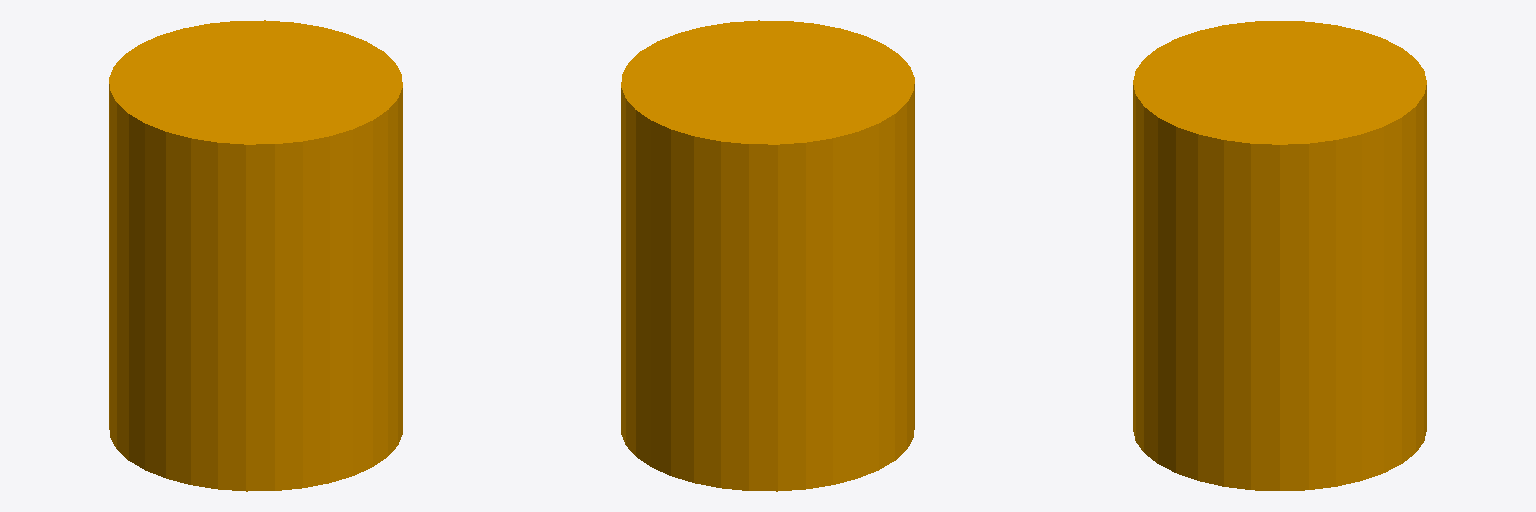
The robot description file, URDF, robot "cylinder.urdf":
<?xml version="1.0" ?>
<robot name="cylinder.urdf">
  <link name="cylinder">
    <contact>
      <lateral_friction value="1.0"/>
      <rolling_friction value="1.0"/>
      <contact_cfm value="0.7"/>
      <contact_erp value="1.0"/>
    </contact>
    <inertial>
      <origin rpy="0 0 0" xyz="0.0 0.02 0.0"/>
       <mass value="0.3"/>
       <inertia ixx="1" ixy="0" ixz="0" iyy="1" iyz="0" izz="1"/>
    </inertial>
    <visual>
      <origin rpy="0 0 0" xyz="0 0 0"/>
      <geometry>
        <cylinder length="0.13" radius="0.05"/>
      </geometry>
    </visual>
    <collision>
      <origin rpy="0 0 0" xyz="0 0 0"/>
      <geometry>
        <cylinder length="0.13" radius="0.02"/>
      </geometry>
    </collision>
  </link>

  <link name="cube">
    <contact>
      <lateral_friction value="1.0"/>
      <rolling_friction value="0.0"/>
      <contact_cfm value="0.0"/>
      <contact_erp value="1.0"/>
    </contact>
    <inertial>
      <origin rpy="0 0 0" xyz="0.0 0.0 0.0"/>
       <mass value="0.1"/>
       <inertia ixx="1" ixy="0" ixz="0" iyy="1" iyz="0" izz="1"/>
    </inertial>
    <visual>
      <origin rpy="0 0 0" xyz="0 0 0"/>
      <geometry>
        <box size="0.06 0.06 0.06"/>
      </geometry>
    </visual>
    <collision>
      <origin rpy="0 0 0" xyz="0 0 0"/>
      <geometry>
        <box size="0.09 0.09 0.05"/>
      </geometry>
    </collision>
  </link>

  <joint name="joint1" type="fixed">
    <parent link="cylinder"/>
    <child link="cube"/>
    <origin rpy="0 0 0" xyz="0 0 0"/>
    <axis xyz="0 0 0"/>
  </joint>
</robot>

--- Render facts (derived) ---
Views: 3 orthographic renders of the robot side by side, from view 1: azimuth 30°, elevation 25°; view 2: azimuth 150°, elevation 25°; view 3: azimuth 270°, elevation 25°.
Model cylinder.urdf with 2 links and 1 joints (1 fixed), rooted at cylinder, posed every joint at zero.
Visible links, largest first — view 1: cylinder; view 2: cylinder; view 3: cylinder.
Boxes of the visible links, left/top/right/bottom form: cylinder: left=109, top=20, right=402, bottom=491; cylinder: left=621, top=20, right=914, bottom=491; cylinder: left=1133, top=21, right=1426, bottom=490.
Bounding box of the posed robot: 0.1 × 0.1 × 0.13 m (x, y, z).
Geometry: primitives only (box / cylinder / sphere), no mesh files.